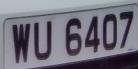0: (101, 10, 121, 55)
4: (83, 10, 103, 61)
6: (63, 12, 85, 63)
7: (118, 8, 137, 50)
U: (32, 17, 56, 66)
W: (9, 19, 34, 68)
